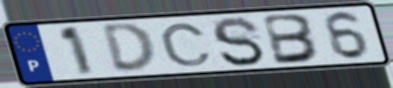1: (58, 25, 96, 77)
6: (321, 9, 374, 62)
B: (261, 13, 323, 67)
C: (158, 22, 215, 69)
D: (99, 21, 159, 75)
S: (209, 15, 268, 68)
